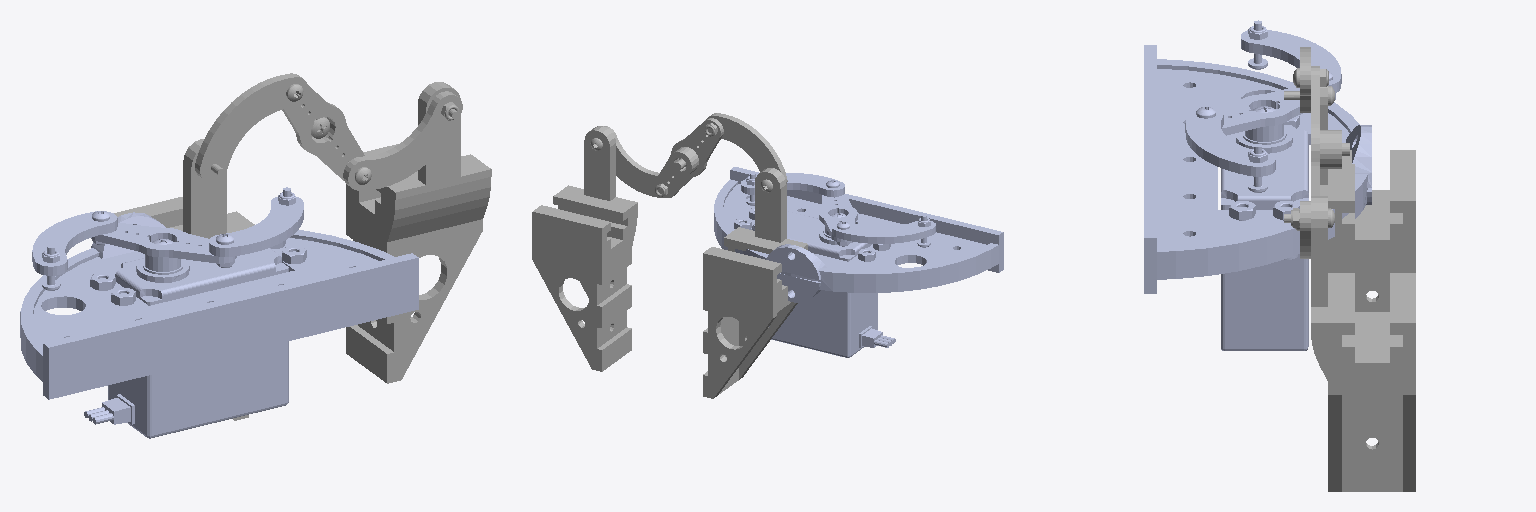
URDF robot description (gripper1):
<?xml version="1.0" encoding="utf-8"?>
<!-- This URDF was automatically created by SolidWorks to URDF Exporter! Originally created by [author] ([email redacted]) 
     Commit Version: 1.6.0-4-g7f85cfe  Build Version: 1.6.7995.38578
     For more information, please see http://wiki.ros.org/sw_urdf_exporter -->
<robot
  name="gripper1">
  <link
    name="base_link">
    <inertial>
      <origin
        xyz="0.052960656456182 0.00247403320273838 0.0218551851280414"
        rpy="0 0 0" />
      <mass
        value="0.164438640401614" />
      <inertia
        ixx="4.07488850941398E-05"
        ixy="-2.68911357078108E-08"
        ixz="5.97892777209423E-07"
        iyy="0.000141951458431198"
        iyz="6.74461965208538E-07"
        izz="0.000111256726374089" />
    </inertial>
    <visual>
      <origin
        xyz="0 0 0"
        rpy="0 0 0" />
      <geometry>
        <mesh
          filename="package://gripper1/meshes/base_link.STL" />
      </geometry>
      <material
        name="">
        <color
          rgba="0.792156862745098 0.819607843137255 0.933333333333333 1" />
      </material>
    </visual>
    <collision>
      <origin
        xyz="0 0 0"
        rpy="0 0 0" />
      <geometry>
        <mesh
          filename="package://gripper1/meshes/base_link.STL" />
      </geometry>
    </collision>
  </link>
  <link
    name="Center_Link">
    <inertial>
      <origin
        xyz="3.56410734259072E-12 -1.79554288104455E-12 -5.51835472349365E-05"
        rpy="0 0 0" />
      <mass
        value="0.00673271507277617" />
      <inertia
        ixx="3.67236426935818E-07"
        ixy="2.06590262336085E-07"
        ixz="-5.95870224583178E-17"
        iyy="2.25849388502395E-07"
        iyz="3.01488809269677E-17"
        izz="5.45446180307896E-07" />
    </inertial>
    <visual>
      <origin
        xyz="0 0 0"
        rpy="0 0 0" />
      <geometry>
        <mesh
          filename="package://gripper1/meshes/Center_Link.STL" />
      </geometry>
      <material
        name="">
        <color
          rgba="0.752941176470588 0.752941176470588 0.752941176470588 1" />
      </material>
    </visual>
    <collision>
      <origin
        xyz="0 0 0"
        rpy="0 0 0" />
      <geometry>
        <mesh
          filename="package://gripper1/meshes/Center_Link.STL" />
      </geometry>
    </collision>
  </link>
  <joint
    name="joint_center"
    type="revolute">
    <origin
      xyz="0.0480000000000069 -0.0119604254870575 0.0274999999999879"
      rpy="1.5707963267949 0 0" />
    <parent
      link="base_link" />
    <child
      link="Center_Link" />
    <axis
      xyz="0 0 -1" />
    <limit
      lower="0"
      upper="0"
      effort="0"
      velocity="0" />
  </joint>
  <link
    name="Left_Link_1">
    <inertial>
      <origin
        xyz="-0.0118733247903395 -0.00477330948085944 -0.00164348960035862"
        rpy="0 0 0" />
      <mass
        value="0.00586490519296767" />
      <inertia
        ixx="1.93550733826025E-07"
        ixy="-2.09102018712065E-07"
        ixz="-3.51304351185593E-16"
        iyy="3.70127950247702E-07"
        iyz="2.80736420911465E-17"
        izz="5.55295487704161E-07" />
    </inertial>
    <visual>
      <origin
        xyz="0 0 0"
        rpy="0 0 0" />
      <geometry>
        <mesh
          filename="package://gripper1/meshes/Left_Link_1.STL" />
      </geometry>
      <material
        name="">
        <color
          rgba="0.752941176470588 0.752941176470588 0.752941176470588 1" />
      </material>
    </visual>
    <collision>
      <origin
        xyz="0 0 0"
        rpy="0 0 0" />
      <geometry>
        <mesh
          filename="package://gripper1/meshes/Left_Link_1.STL" />
      </geometry>
    </collision>
  </link>
  <joint
    name="Left_joint_1"
    type="revolute">
    <origin
      xyz="-0.0095944272489367 0.0134237463386834 0.0048194471906228"
      rpy="0 0 0" />
    <parent
      link="Center_Link" />
    <child
      link="Left_Link_1" />
    <axis
      xyz="0 0 -1" />
    <limit
      lower="0"
      upper="0"
      effort="0"
      velocity="0" />
  </joint>
  <link
    name="left_link_2">
    <inertial>
      <origin
        xyz="-8.89499411627082E-11 -1.3100358298157E-10 -0.0051136560407435"
        rpy="0 0 0" />
      <mass
        value="0.00036708412558652" />
      <inertia
        ixx="4.81040580206059E-09"
        ixy="4.37925558239465E-24"
        ixz="-7.66578916959062E-17"
        iyy="4.81040580206059E-09"
        iyz="-1.16054231184666E-16"
        izz="4.32822689842398E-10" />
    </inertial>
    <visual>
      <origin
        xyz="0 0 0"
        rpy="0 0 0" />
      <geometry>
        <mesh
          filename="package://gripper1/meshes/left_link_2.STL" />
      </geometry>
      <material
        name="">
        <color
          rgba="0.752941176470588 0.752941176470588 0.752941176470588 1" />
      </material>
    </visual>
    <collision>
      <origin
        xyz="0 0 0"
        rpy="0 0 0" />
      <geometry>
        <mesh
          filename="package://gripper1/meshes/left_link_2.STL" />
      </geometry>
    </collision>
  </link>
  <joint
    name="left_joint_2"
    type="fixed">
    <origin
      xyz="-0.0225007065493285 -0.0149237463386713 0.00147854532620944"
      rpy="0 0 0" />
    <parent
      link="Left_Link_1" />
    <child
      link="left_link_2" />
    <axis
      xyz="0 0 0" />
  </joint>
  <link
    name="right_link_1">
    <inertial>
      <origin
        xyz="0.0123862621222297 0.00321571696582786 -0.00164348960035861"
        rpy="0 0 0" />
      <mass
        value="0.00586490519296767" />
      <inertia
        ixx="1.43396315422454E-07"
        ixy="-1.79866786022851E-07"
        ixz="-3.49600515433802E-16"
        iyy="4.20282368651274E-07"
        iyz="2.75538403439752E-17"
        izz="5.55295487704161E-07" />
    </inertial>
    <visual>
      <origin
        xyz="0 0 0"
        rpy="0 0 0" />
      <geometry>
        <mesh
          filename="package://gripper1/meshes/right_link_1.STL" />
      </geometry>
      <material
        name="">
        <color
          rgba="0.752941176470588 0.752941176470588 0.752941176470588 1" />
      </material>
    </visual>
    <collision>
      <origin
        xyz="0 0 0"
        rpy="0 0 0" />
      <geometry>
        <mesh
          filename="package://gripper1/meshes/right_link_1.STL" />
      </geometry>
    </collision>
  </link>
  <joint
    name="right_joint_1"
    type="revolute">
    <origin
      xyz="0.00959442724892292 -0.0134237463386594 0.00481944719062276"
      rpy="0 0 0" />
    <parent
      link="Center_Link" />
    <child
      link="right_link_1" />
    <axis
      xyz="0 0 -1" />
    <limit
      lower="0"
      upper="0"
      effort="0"
      velocity="0" />
  </joint>
  <link
    name="right_link_2">
    <inertial>
      <origin
        xyz="-8.89594786723791E-11 -1.31003562164889E-10 -0.0051136560407435"
        rpy="0 0 0" />
      <mass
        value="0.000367084125586521" />
      <inertia
        ixx="4.81040580206065E-09"
        ixy="4.11301007980255E-24"
        ixz="-7.66578920839573E-17"
        iyy="4.81040580206065E-09"
        iyz="-1.1605423163337E-16"
        izz="4.32822689842398E-10" />
    </inertial>
    <visual>
      <origin
        xyz="0 0 0"
        rpy="0 0 0" />
      <geometry>
        <mesh
          filename="package://gripper1/meshes/right_link_2.STL" />
      </geometry>
      <material
        name="">
        <color
          rgba="0.752941176470588 0.752941176470588 0.752941176470588 1" />
      </material>
    </visual>
    <collision>
      <origin
        xyz="0 0 0"
        rpy="0 0 0" />
      <geometry>
        <mesh
          filename="package://gripper1/meshes/right_link_2.STL" />
      </geometry>
    </collision>
  </link>
  <joint
    name="right_joint_2"
    type="fixed">
    <origin
      xyz="0.0242244560981464 0.0119237463386714 0.00147854532620947"
      rpy="0 0 0" />
    <parent
      link="right_link_1" />
    <child
      link="right_link_2" />
    <axis
      xyz="0 0 0" />
  </joint>
  <link
    name="left_slider">
    <inertial>
      <origin
        xyz="0.0294048662017467 -0.00931288984895782 0.00191752477310818"
        rpy="0 0 0" />
      <mass
        value="0.196968097035132" />
      <inertia
        ixx="5.66631021589071E-05"
        ixy="-8.470329472543E-22"
        ixz="-2.06464280893236E-21"
        iyy="2.34039790096878E-05"
        iyz="-6.70510091019595E-06"
        izz="5.72866268833215E-05" />
    </inertial>
    <visual>
      <origin
        xyz="0 0 0"
        rpy="0 0 0" />
      <geometry>
        <mesh
          filename="package://gripper1/meshes/left_slider.STL" />
      </geometry>
      <material
        name="">
        <color
          rgba="0.752941176470588 0.752941176470588 0.752941176470588 1" />
      </material>
    </visual>
    <collision>
      <origin
        xyz="0 0 0"
        rpy="0 0 0" />
      <geometry>
        <mesh
          filename="package://gripper1/meshes/left_slider.STL" />
      </geometry>
    </collision>
  </link>
  <joint
    name="left_slider_joint"
    type="prismatic">
    <origin
      xyz="0 0 0"
      rpy="1.5708 0 0" />
    <parent
      link="base_link" />
    <child
      link="left_slider" />
    <axis
      xyz="-1 0 0" />
    <limit
      lower="0"
      upper="0"
      effort="0"
      velocity="0" />
  </joint>
  <link
    name="left_link_3">
    <inertial>
      <origin
        xyz="5.00407385667367E-10 -1.16372104314033E-09 -0.000819794291485806"
        rpy="0 0 0" />
      <mass
        value="0.000150988691967517" />
      <inertia
        ixx="2.47825833226025E-10"
        ixy="2.3511943693465E-15"
        ixz="-2.45435534537665E-16"
        iyy="2.47825026038051E-10"
        iyz="-2.50822184735602E-16"
        izz="4.06122781259635E-10" />
    </inertial>
    <visual>
      <origin
        xyz="0 0 0"
        rpy="0 0 0" />
      <geometry>
        <mesh
          filename="package://gripper1/meshes/left_link_3.STL" />
      </geometry>
      <material
        name="">
        <color
          rgba="0.752941176470588 0.752941176470588 0.752941176470588 1" />
      </material>
    </visual>
    <collision>
      <origin
        xyz="0 0 0"
        rpy="0 0 0" />
      <geometry>
        <mesh
          filename="package://gripper1/meshes/left_link_3.STL" />
      </geometry>
    </collision>
  </link>
  <joint
    name="left_joint_3"
    type="fixed">
    <origin
      xyz="0.0159048662017417 0.026 0.0182584180038898"
      rpy="0 0 0" />
    <parent
      link="left_slider" />
    <child
      link="left_link_3" />
    <axis
      xyz="0 0 0" />
  </joint>
  <link
    name="right_slider">
    <inertial>
      <origin
        xyz="-0.0243204283546006 -0.0092690123479957 0.00193005260128539"
        rpy="0 0 0" />
      <mass
        value="0.0986065706310558" />
      <inertia
        ixx="2.84968489189894E-05"
        ixy="-4.6686133873974E-06"
        ixz="-4.07144963747854E-07"
        iyy="1.17152535254682E-05"
        iyz="-3.39611918918289E-06"
        izz="2.87966692369999E-05" />
    </inertial>
    <visual>
      <origin
        xyz="0 0 0"
        rpy="0 0 0" />
      <geometry>
        <mesh
          filename="package://gripper1/meshes/right_slider.STL" />
      </geometry>
      <material
        name="">
        <color
          rgba="0.752941176470588 0.752941176470588 0.752941176470588 1" />
      </material>
    </visual>
    <collision>
      <origin
        xyz="0 0 0"
        rpy="0 0 0" />
      <geometry>
        <mesh
          filename="package://gripper1/meshes/right_slider.STL" />
      </geometry>
    </collision>
  </link>
  <joint
    name="right_slider_joint"
    type="prismatic">
    <origin
      xyz="0.104 0 0"
      rpy="1.5708 0 0" />
    <parent
      link="base_link" />
    <child
      link="right_slider" />
    <axis
      xyz="-1 0 0" />
    <limit
      lower="0"
      upper="0"
      effort="0"
      velocity="0" />
  </joint>
  <link
    name="right_link_3">
    <inertial>
      <origin
        xyz="5.00397834279909E-10 -1.16372103273199E-09 -0.00081979429148581"
        rpy="0 0 0" />
      <mass
        value="0.000150988691967517" />
      <inertia
        ixx="2.47825833226025E-10"
        ixy="2.35119436883175E-15"
        ixz="-2.45435534658164E-16"
        iyy="2.4782502603805E-10"
        iyz="-2.50822184998268E-16"
        izz="4.06122781259634E-10" />
    </inertial>
    <visual>
      <origin
        xyz="0 0 0"
        rpy="0 0 0" />
      <geometry>
        <mesh
          filename="package://gripper1/meshes/right_link_3.STL" />
      </geometry>
      <material
        name="">
        <color
          rgba="0.752941176470588 0.752941176470588 0.752941176470588 1" />
      </material>
    </visual>
    <collision>
      <origin
        xyz="0 0 0"
        rpy="0 0 0" />
      <geometry>
        <mesh
          filename="package://gripper1/meshes/right_link_3.STL" />
      </geometry>
    </collision>
  </link>
  <joint
    name="right_joint_3"
    type="fixed">
    <origin
      xyz="-0.022181 0.026 0.018258"
      rpy="0 0 0" />
    <parent
      link="right_slider" />
    <child
      link="right_link_3" />
    <axis
      xyz="0 0 0" />
  </joint>
</robot>

--- Render facts (derived) ---
The picture shows the robot from 3 angles, left to right: view 1: azimuth 30°, elevation 25°; view 2: azimuth 150°, elevation 25°; view 3: azimuth 270°, elevation 25°; orthographic projection.
Model gripper1 with 10 links and 9 joints (3 revolute, 2 prismatic, 4 fixed), rooted at base_link, posed every joint at zero.
Visible links, largest first — view 1: base_link, right_slider, Left_Link_1, left_slider, right_link_1, Center_Link; view 2: base_link, right_slider, left_slider, Center_Link, Left_Link_1, right_link_1; view 3: base_link, right_slider, left_slider, Center_Link, Left_Link_1, right_link_1.
Link boxes in pixels (x1,y1,x2,y2): base_link: (20,187,418,438); right_slider: (346,82,491,383); Left_Link_1: (195,73,307,182); left_slider: (114,139,254,420); right_link_1: (343,91,462,190); Center_Link: (282,85,364,180); base_link: (714,167,1003,357); right_slider: (532,126,637,371); left_slider: (703,168,807,398); Center_Link: (654,118,723,197); Left_Link_1: (705,113,787,183); right_link_1: (604,126,678,197); base_link: (1144,20,1371,350); right_slider: (1311,196,1415,491); left_slider: (1320,86,1415,312); Center_Link: (1311,66,1349,195); Left_Link_1: (1293,47,1328,112); right_link_1: (1295,201,1310,258).
Size in the robot's own frame: 0.1464 by 0.062 by 0.0921 metres.
Meshes: 10 distinct files referenced, 9 mesh visuals loaded (9 binary STL); not drawn: 1 (reference not matched to a file when rendering).